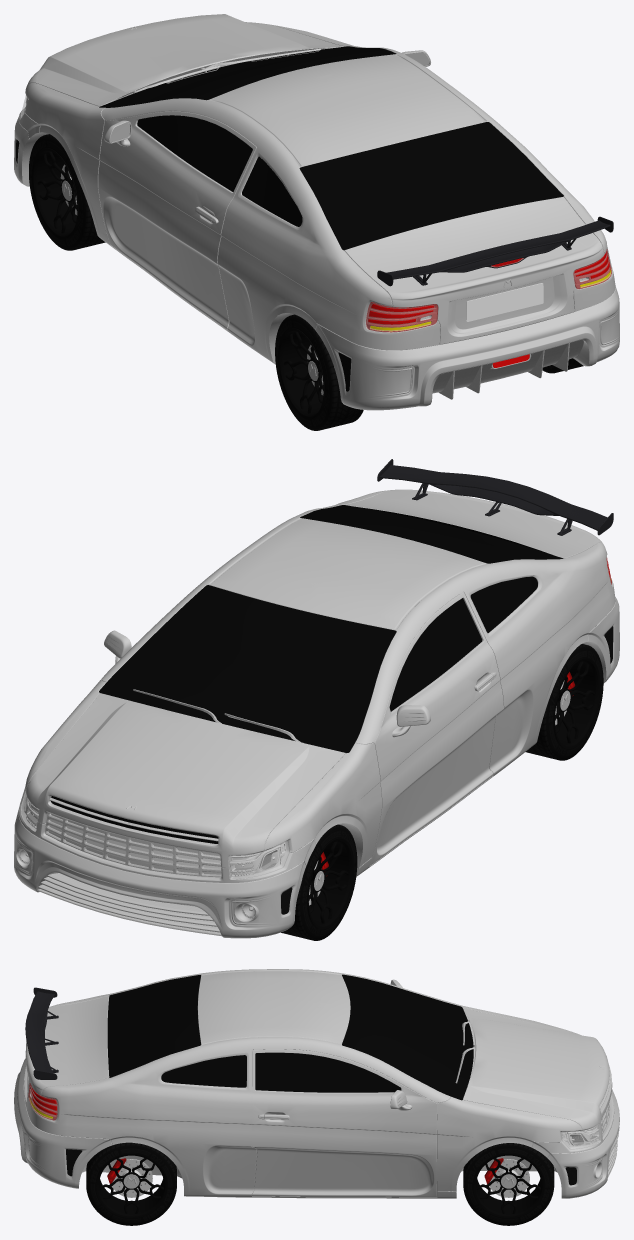
The model's file is sports-coupe.glb.
3 views of the same model, one above another, from view 1: azimuth 30°, elevation 25°; view 2: azimuth 150°, elevation 25°; view 3: azimuth 270°, elevation 25° (orthographic). The views are drawn at different scales.
Parts seen in each view (by area): view 1: Generic car 2_body, Generic car 2_rear left rim, Generic car 2_front left rim, Generic car 2_spoiler, Generic car 2_rear left tyre, Generic car 2_rear light, Generic car 2_front left tyre, Generic car 2_car plate, Generic car 2_button, Generic car 2_side mirrors, Generic car 2_front windshiled sweeper; view 2: Generic car 2_body, Generic car 2_front grill, Generic car 2_front grill glass, Generic car 2_spoiler, Generic car 2_front spoiler, Generic car 2_front left rim, Generic car 2_rear left rim, Generic car 2_rear left tyre, Generic car 2_front left tyre, Generic car 2_head lights, Generic car 2_side mirrors; view 3: Generic car 2_body, Generic car 2_rear right tyre, Generic car 2_front right tyre, Generic car 2_front right rim, Generic car 2_rear right rim, Generic car 2_spoiler, Generic car 2_front right disc, Generic car 2_rear right disc, Generic car 2_head lights, Generic car 2_button, Generic car 2_rear light, Generic car 2_side mirrors.
Part boxes in pixels (x1,y1,x2,y2): Generic car 2_body: [14, 14, 619, 410]; Generic car 2_rear left rim: [278, 328, 324, 419]; Generic car 2_front left rim: [31, 148, 78, 238]; Generic car 2_spoiler: [386, 220, 610, 279]; Generic car 2_rear left tyre: [275, 314, 363, 430]; Generic car 2_rear light: [366, 250, 611, 332]; Generic car 2_front left tyre: [29, 134, 105, 250]; Generic car 2_car plate: [466, 283, 543, 321]; Generic car 2_button: [22, 132, 294, 364]; Generic car 2_side mirrors: [104, 50, 430, 146]; Generic car 2_front windshiled sweeper: [133, 48, 320, 93]; Generic car 2_body: [14, 489, 619, 938]; Generic car 2_front grill: [45, 812, 221, 877]; Generic car 2_front grill glass: [45, 813, 221, 876]; Generic car 2_spoiler: [379, 465, 607, 530]; Generic car 2_front spoiler: [37, 873, 221, 936]; Generic car 2_front left rim: [307, 838, 354, 929]; Generic car 2_rear left rim: [553, 658, 600, 748]; Generic car 2_rear left tyre: [526, 644, 603, 760]; Generic car 2_front left tyre: [281, 824, 357, 940]; Generic car 2_head lights: [21, 793, 289, 879]; Generic car 2_side mirrors: [104, 630, 430, 737]; Generic car 2_body: [14, 969, 619, 1198]; Generic car 2_rear right tyre: [86, 1142, 176, 1225]; Generic car 2_front right tyre: [463, 1143, 554, 1225]; Generic car 2_front right rim: [473, 1153, 544, 1218]; Generic car 2_rear right rim: [96, 1153, 167, 1218]; Generic car 2_spoiler: [25, 991, 54, 1072]; Generic car 2_front right disc: [489, 1159, 529, 1197]; Generic car 2_rear right disc: [112, 1159, 152, 1197]; Generic car 2_head lights: [561, 1124, 600, 1149]; Generic car 2_button: [82, 1155, 557, 1178]; Generic car 2_rear light: [29, 1083, 57, 1120]; Generic car 2_side mirrors: [390, 979, 412, 1110].
Size of the model in its own units: 2.16 by 1.45 by 4.57.
Materials: 26 (8 with a texture image).
